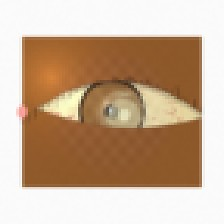corneal_ulcer: (96, 94, 152, 138)
